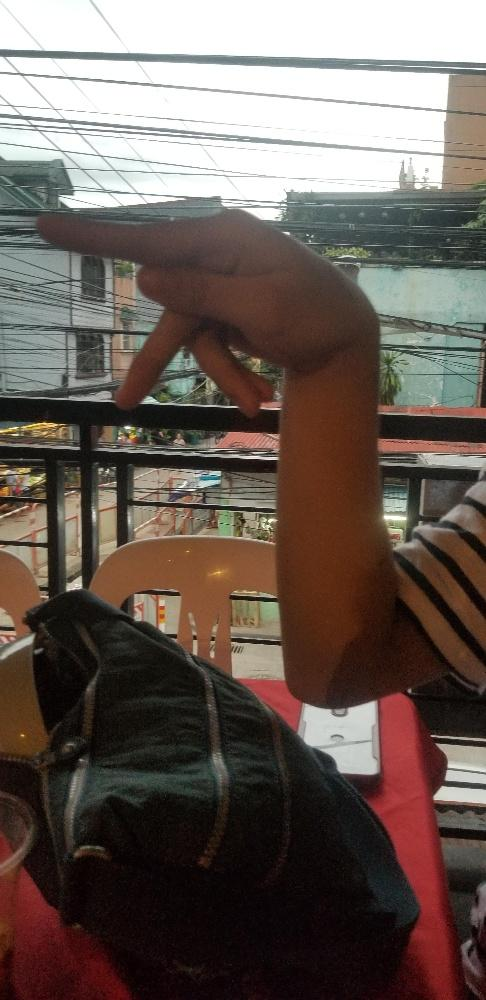p: (34, 207, 376, 417)
